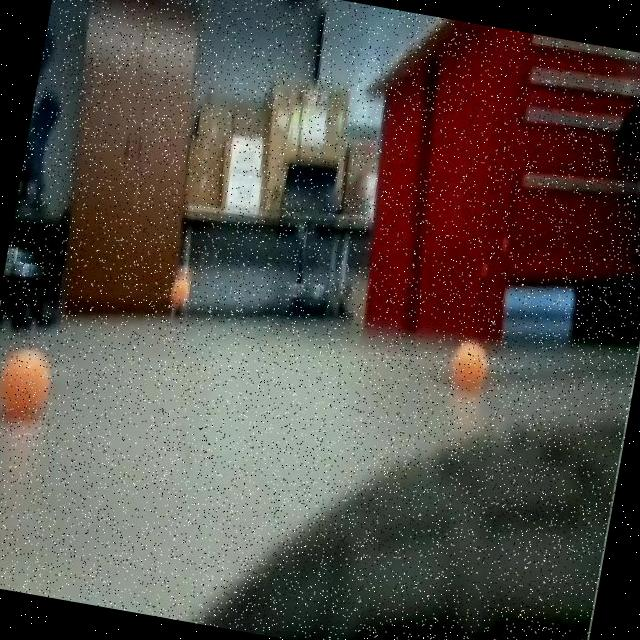ping-pong-ball: (0, 332, 58, 429), (444, 336, 496, 398), (164, 268, 192, 312)
